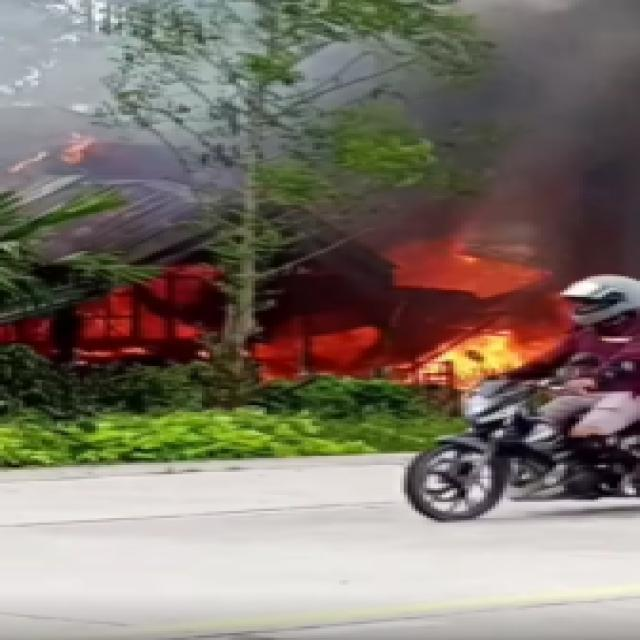Fire: (372, 217, 538, 367)
Smoke: (371, 0, 640, 265)
